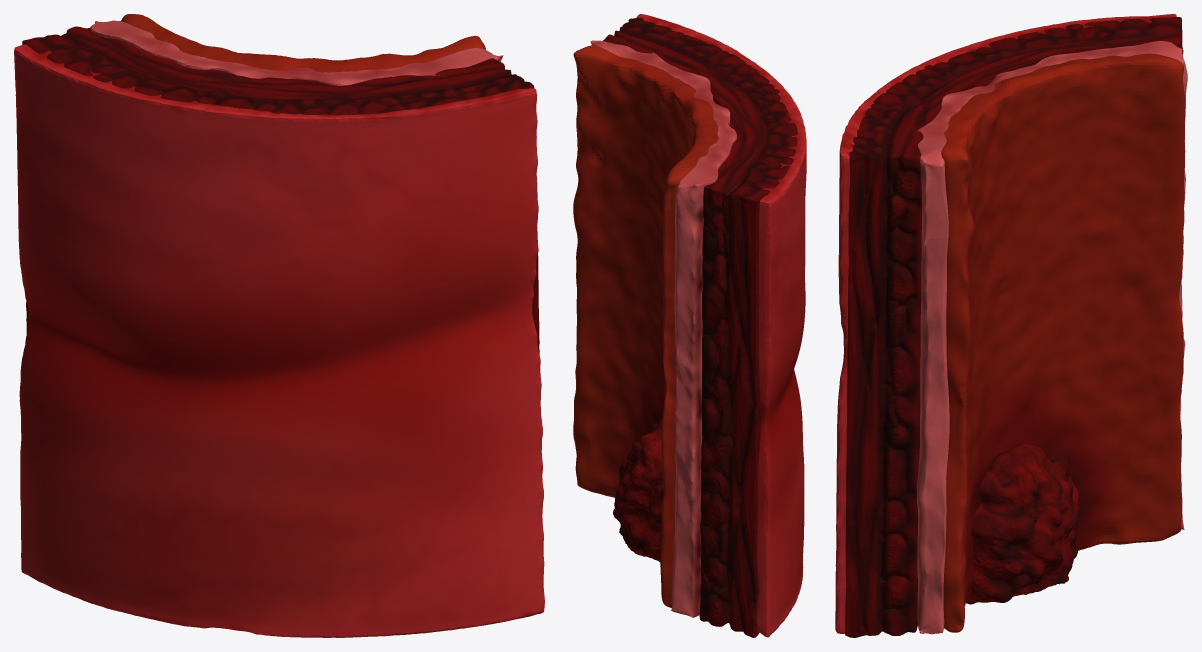
The model's file is stage-1-s-v1.glb.
3 renders of one model, left to right at view 1: azimuth 30°, elevation 25°; view 2: azimuth 150°, elevation 25°; view 3: azimuth 270°, elevation 25°, orthographic. The views are drawn at different scales.
Visible parts, largest first — view 1: PM3D_Cylinder3D2; view 2: PM3D_Cylinder3D2; view 3: PM3D_Cylinder3D2.
Part boxes in pixels (x1,y1,x2,y2): PM3D_Cylinder3D2: [14, 14, 544, 637]; PM3D_Cylinder3D2: [573, 14, 806, 637]; PM3D_Cylinder3D2: [835, 14, 1187, 637].
Size of the model in its own units: 0.7761 by 1.13 by 0.7317.
Materials: 1 (1 with a texture image).
